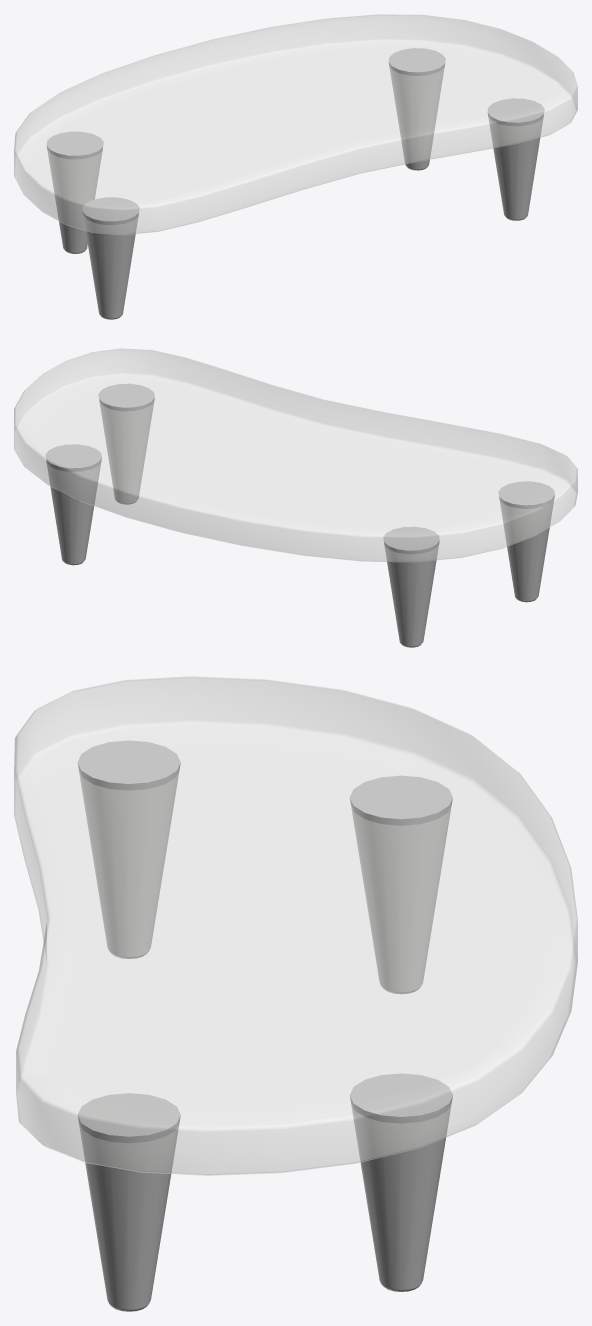
Rendered from Table_20.fbx.
3 views of the same model, one above another, from view 1: azimuth 30°, elevation 25°; view 2: azimuth 150°, elevation 25°; view 3: azimuth 270°, elevation 25° (orthographic). The views are drawn at different scales.
Parts seen in each view (by area): view 1: Table_20; view 2: Table_20; view 3: Table_20.
Part boxes in pixels (x1,y1,x2,y2): Table_20: (14, 14, 577, 319); Table_20: (14, 348, 577, 647); Table_20: (14, 676, 577, 1311).
Bounding box in the file's own units: 177 × 42.25 × 92.84.
